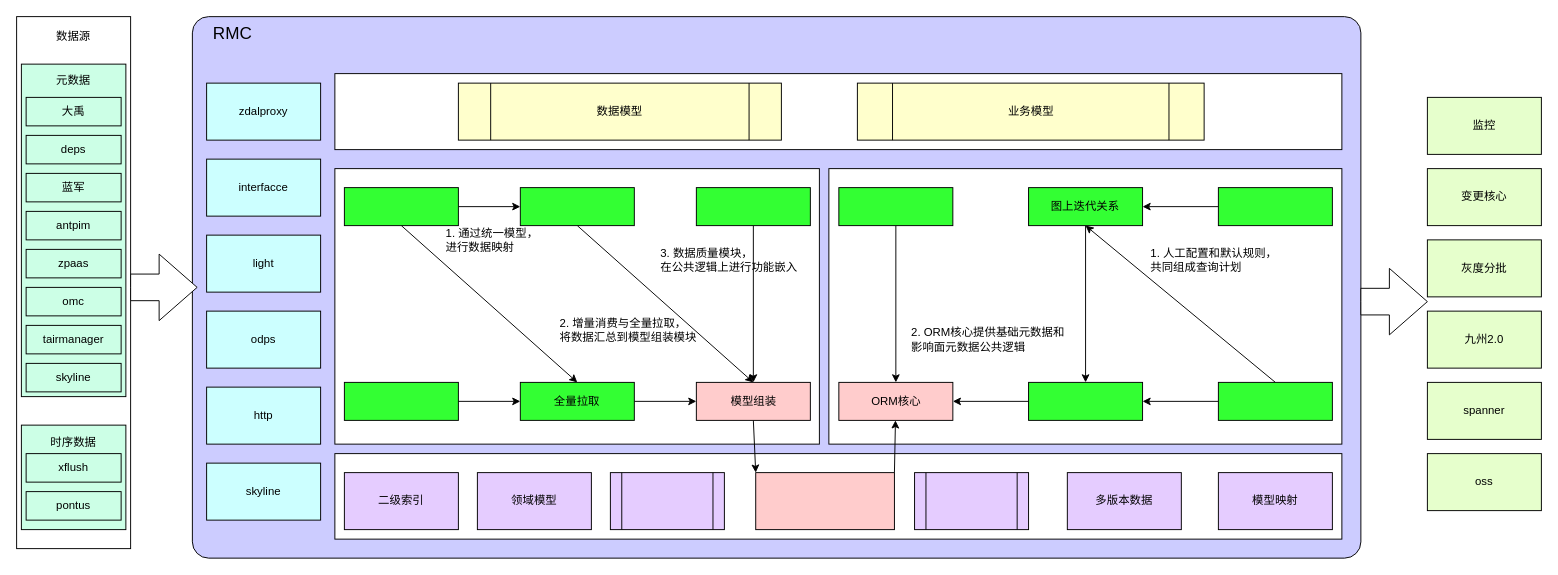
The diagram is 1558 pixels wide and 575 high, and some of its shapes have lost their labels. Here are the shapes that lost their labels. From the top down, the centre of each, then its label:
the point at 400,206: 模型定义
the point at 576,206: 增量消费
the point at 752,206: 数据质量
the point at 895,206: 实体列表
the point at 1274,206: 自动影响面
the point at 400,400: 数据客户端
the point at 1085,400: 业务场景解析
the point at 1274,400: 影响面配置
the point at 666,501: 数据结构
the point at 824,501: 数据存储
the point at 971,501: lindorm
